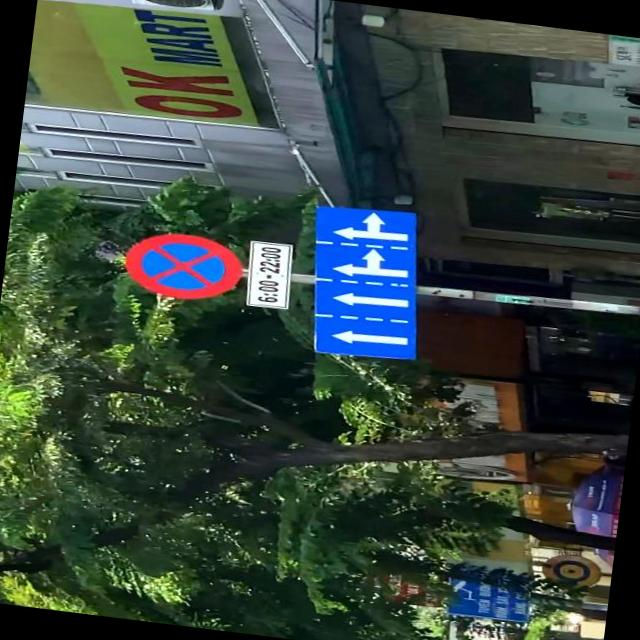P-130: (121, 226, 242, 304)
